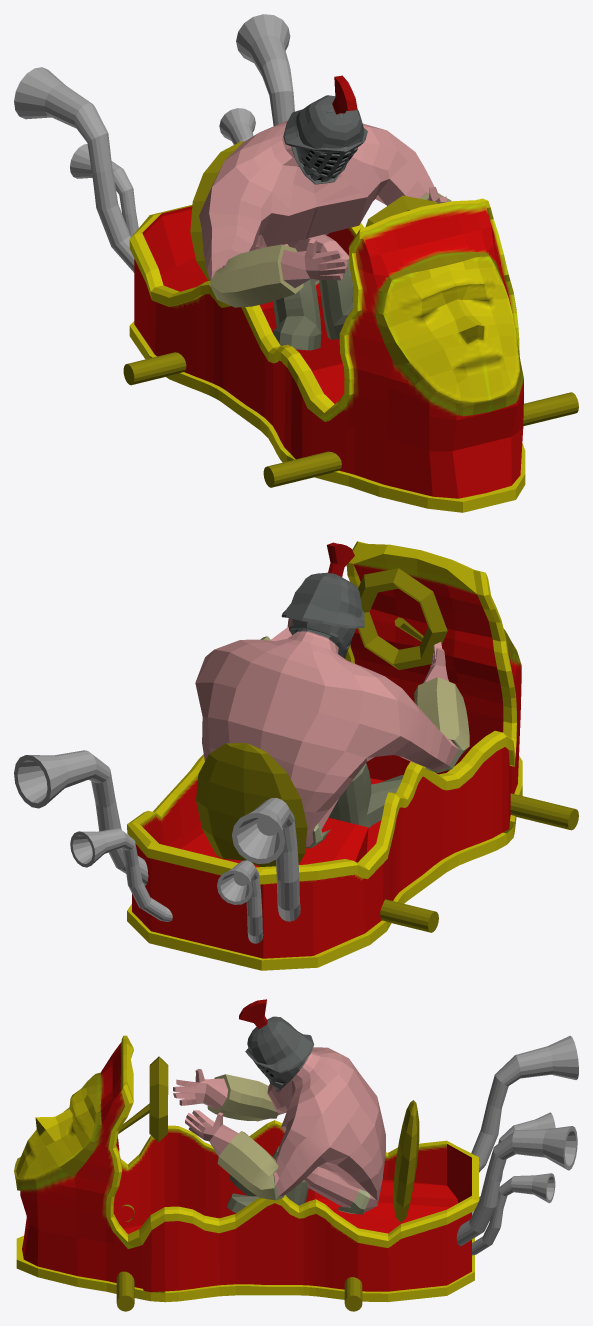
The model's file is GladiHabilidad_000536.obj.
3 views of the same model, one above another, from view 1: azimuth 30°, elevation 25°; view 2: azimuth 150°, elevation 25°; view 3: azimuth 270°, elevation 25° (orthographic). The views are drawn at different scales.
Visible parts, largest first — view 1: GladiChasis_GladiChasisH, Gadiador_Gladiador_H.001, GladiTubos_GladiTubosH, GladiVolante_GladiVolanteH; view 2: GladiChasis_GladiChasisH, Gadiador_Gladiador_H.001, GladiVolante_GladiVolanteH, GladiTubos_GladiTubosH; view 3: GladiChasis_GladiChasisH, Gadiador_Gladiador_H.001, GladiTubos_GladiTubosH, GladiVolante_GladiVolanteH.
Part boxes in pixels (x1=…): GladiChasis_GladiChasisH: x1=129, y1=198, x2=525, y2=512; Gadiador_Gladiador_H.001: x1=199, y1=75, x2=451, y2=350; GladiTubos_GladiTubosH: x1=14, y1=14, x2=294, y2=272; GladiVolante_GladiVolanteH: x1=123, y1=141, x2=578, y2=487; GladiChasis_GladiChasisH: x1=127, y1=541, x2=522, y2=970; Gadiador_Gladiador_H.001: x1=195, y1=542, x2=469, y2=848; GladiVolante_GladiVolanteH: x1=196, y1=568, x2=578, y2=932; GladiTubos_GladiTubosH: x1=14, y1=750, x2=300, y2=943; GladiChasis_GladiChasisH: x1=14, y1=1035, x2=478, y2=1302; Gadiador_Gladiador_H.001: x1=173, y1=999, x2=385, y2=1214; GladiTubos_GladiTubosH: x1=456, y1=1035, x2=578, y2=1255; GladiVolante_GladiVolanteH: x1=116, y1=1056, x2=419, y2=1311.
Bounding box in the file's own units: 5.46 × 5.44 × 10.78.
